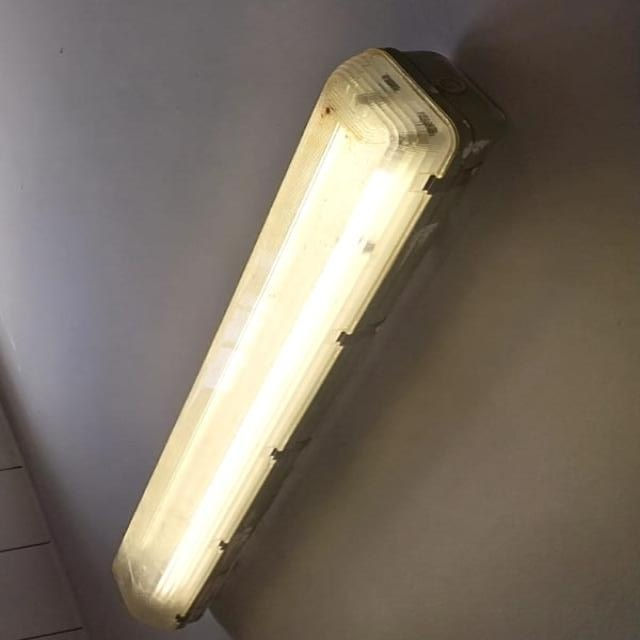fluorescent tube: (54, 24, 526, 639)
